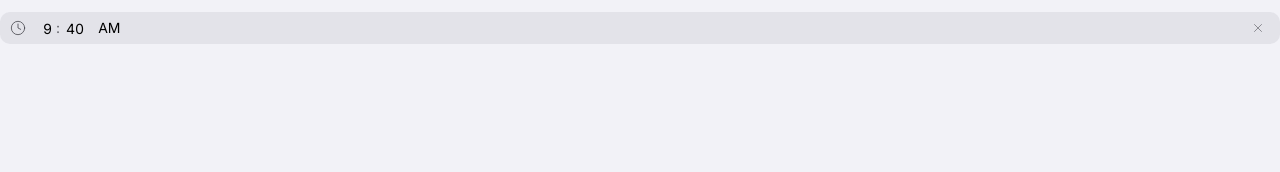
Test: typing › replaces a full segment rather than rejecting the keystrokes
This screenshot has width=1280, height=172.
Click the field named "minute" at x=75, y=28, box [64,12,86,44]
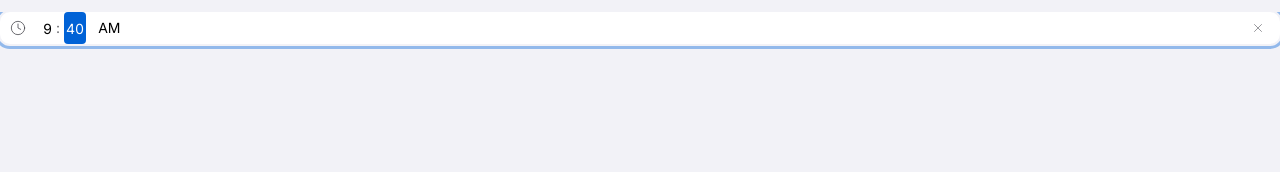
Type keys "15"
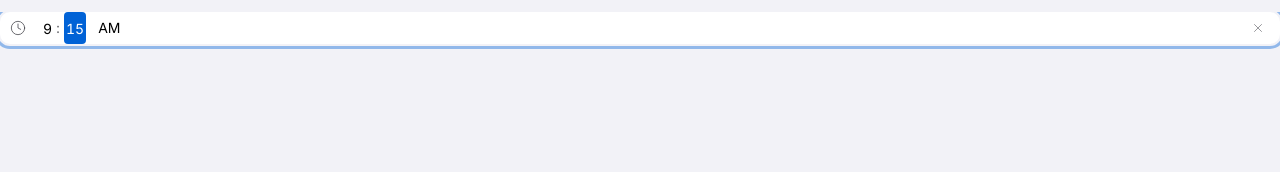
Check: the field named "minute" holds "15", box [64,12,86,44]
